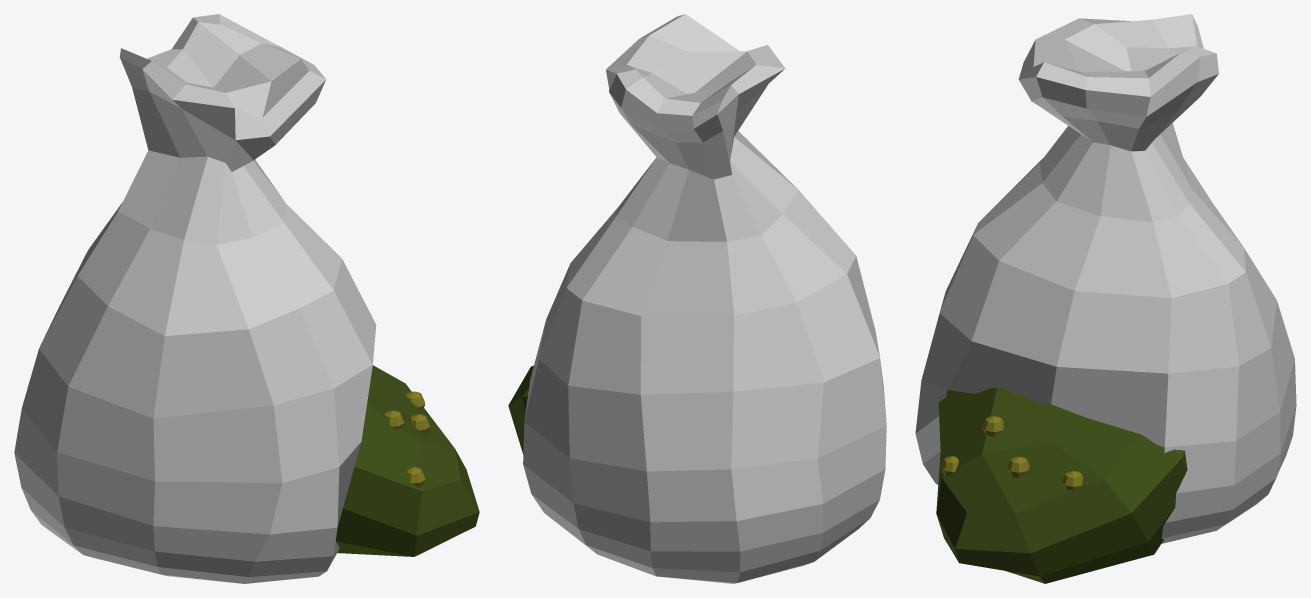
The model's file is SacoDeLixoRasgado.fbx.
3 renders of one model, left to right at view 1: azimuth 30°, elevation 25°; view 2: azimuth 150°, elevation 25°; view 3: azimuth 270°, elevation 25°, orthographic. The views are drawn at different scales.
Visible parts, largest first — view 1: LixoRasgado; view 2: LixoRasgado; view 3: LixoRasgado.
Part boxes in pixels (left/top/right/bottom): LixoRasgado: left=14, top=14, right=479, bottom=583; LixoRasgado: left=508, top=14, right=886, bottom=583; LixoRasgado: left=915, top=14, right=1296, bottom=583.
Bounding box in the file's own units: 67.28 × 81.05 × 60.22.
